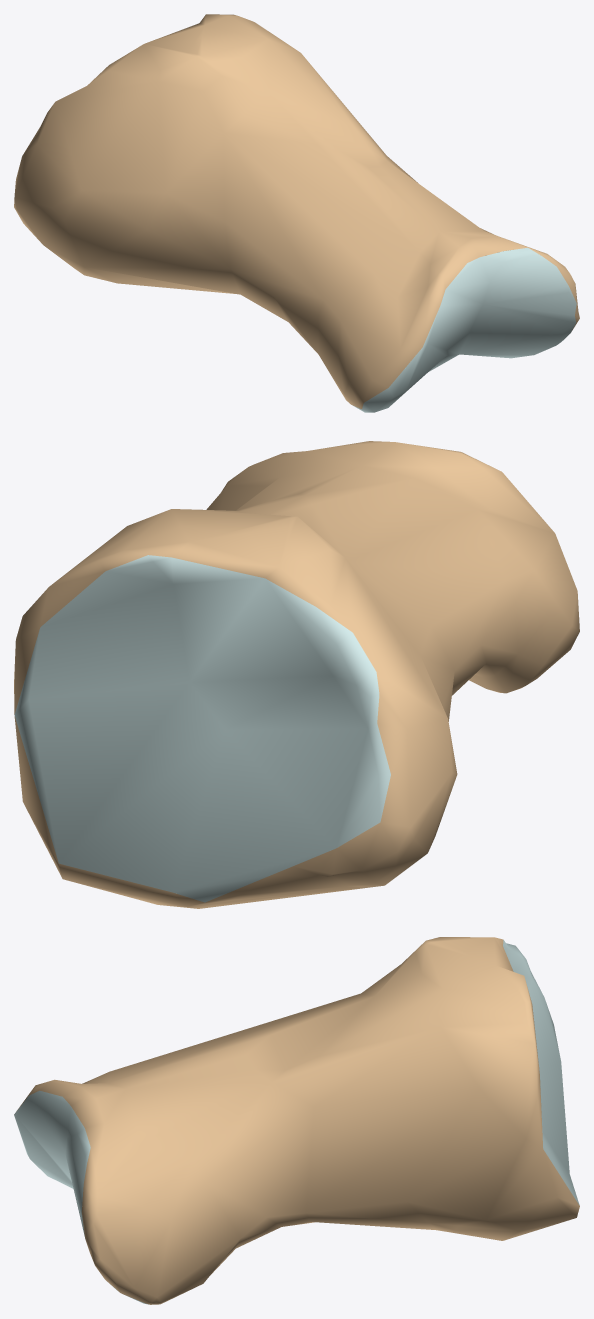
The model's file is Phalanx_proximal_1st_finger_foot_left.glb.
The picture shows the model from 3 angles, top to bottom: view 1: azimuth 30°, elevation 25°; view 2: azimuth 150°, elevation 25°; view 3: azimuth 270°, elevation 25°; orthographic projection. The views are drawn at different scales.
Visible parts, largest first — view 1: Proximal_phalanx_of_1st_finger_of_foot.l_Generated_Mesh_From; view 2: Proximal_phalanx_of_1st_finger_of_foot.l_Generated_Mesh_From; view 3: Proximal_phalanx_of_1st_finger_of_foot.l_Generated_Mesh_From.
Boxes of the visible parts, left/top/right/bottom form: Proximal_phalanx_of_1st_finger_of_foot.l_Generated_Mesh_From: left=14, top=14, right=579, bottom=412; Proximal_phalanx_of_1st_finger_of_foot.l_Generated_Mesh_From: left=14, top=441, right=579, bottom=908; Proximal_phalanx_of_1st_finger_of_foot.l_Generated_Mesh_From: left=14, top=937, right=579, bottom=1304.
Bounding box in the file's own units: 0.0261 × 0.0177 × 0.0345.
